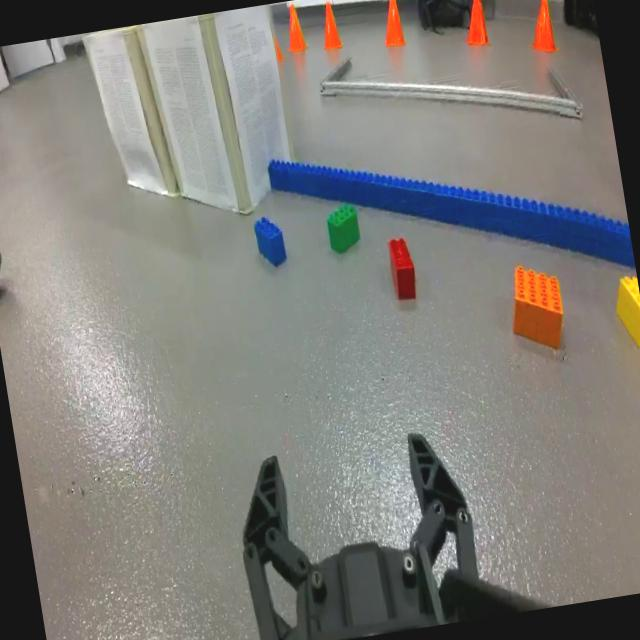block: (610, 269, 640, 358)
blue: (251, 208, 293, 276)
cone: (523, 0, 563, 60), (457, 0, 494, 53), (375, 0, 410, 54), (313, 0, 346, 52), (280, 1, 311, 54)
green: (324, 200, 364, 260)
metal barrier: (320, 56, 584, 122)
orange: (498, 253, 574, 361)
red goal: (384, 232, 421, 304)
storage cube: (265, 158, 635, 266), (137, 4, 298, 216), (81, 28, 178, 197)
